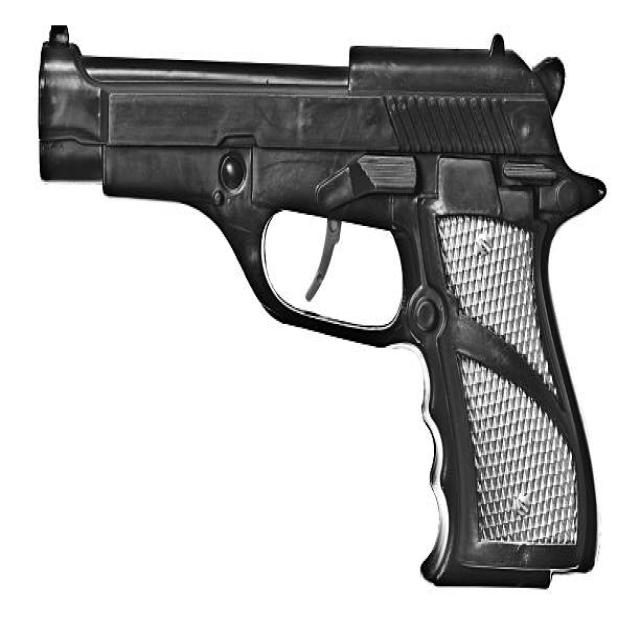pistol: (29, 10, 611, 601)
